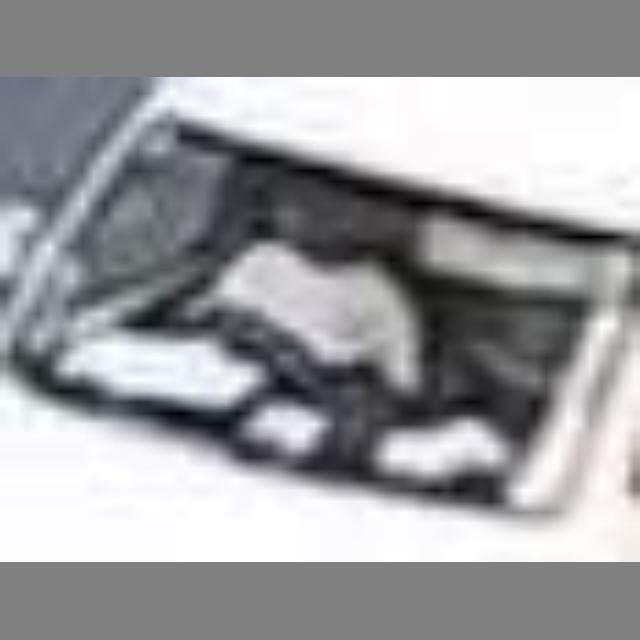tidak-pakai: (154, 198, 408, 408)
